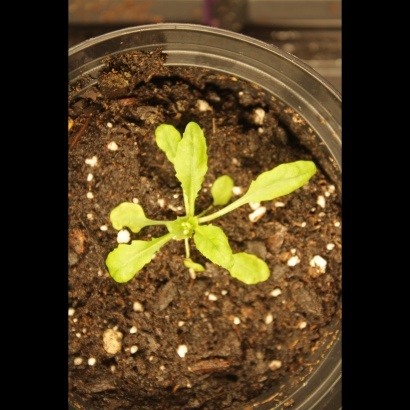leaf: (242, 161, 326, 206), (176, 119, 215, 214), (104, 237, 175, 288), (103, 193, 164, 235), (147, 118, 186, 170), (194, 223, 235, 272), (228, 250, 278, 290), (203, 174, 247, 211), (169, 213, 203, 245)
